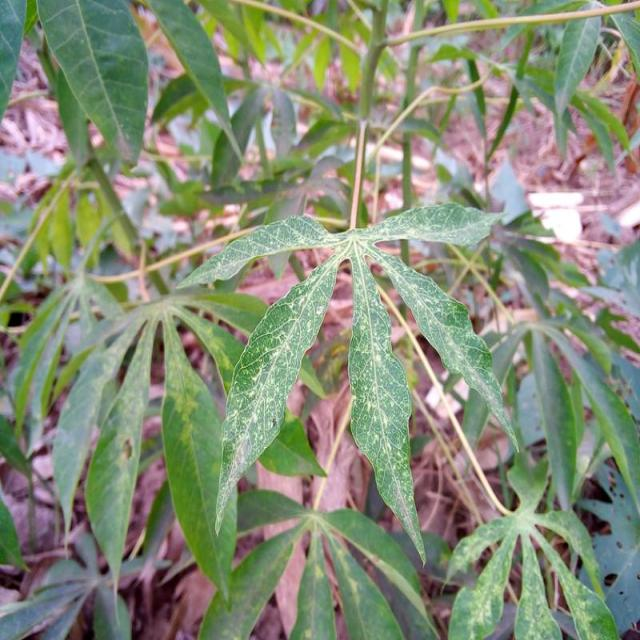cassava leaf: (176, 198, 515, 566), (214, 242, 346, 533), (346, 240, 426, 566), (159, 307, 239, 606), (35, 0, 149, 170)
